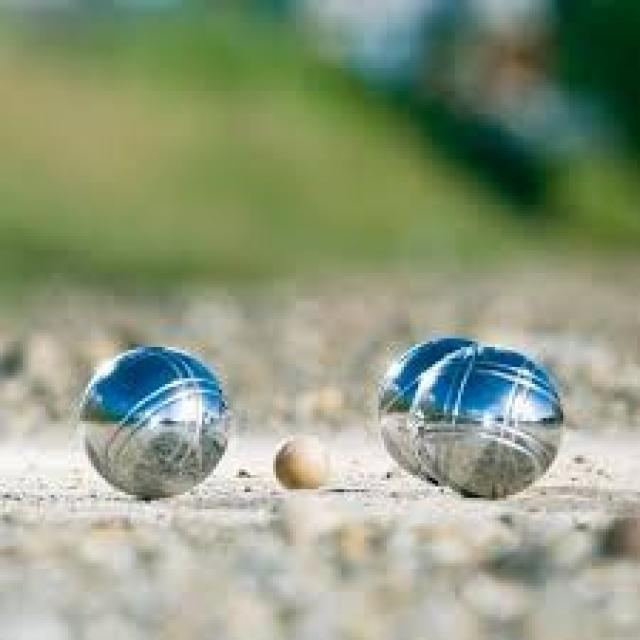hatball: (263, 430, 345, 504)
petanque: (70, 335, 235, 519), (411, 344, 579, 505), (362, 332, 493, 495)
